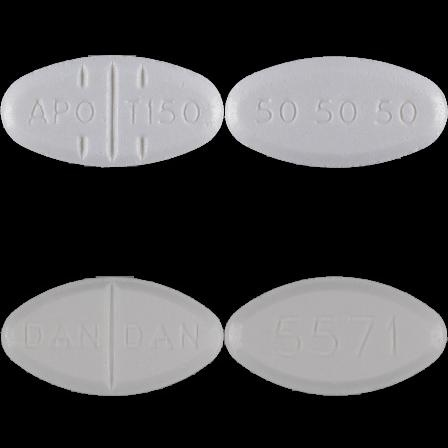50268-771: (0, 0, 224, 224)
